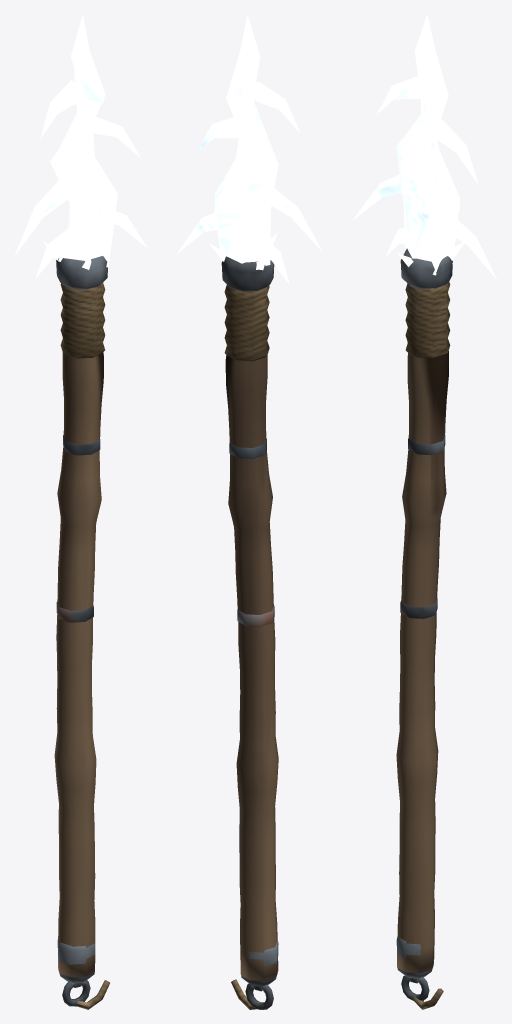
The model's file is Harpoon.fbx.
3 views of the same model, side by side, from view 1: azimuth 30°, elevation 25°; view 2: azimuth 150°, elevation 25°; view 3: azimuth 330°, elevation 25° (orthographic).
Parts seen in each view (by area): view 1: Harpoon; view 2: Harpoon; view 3: Harpoon.
Boxes of the visible parts, x1,y1,x2,y2 form: Harpoon: [15, 14, 146, 1009]; Harpoon: [177, 14, 322, 1009]; Harpoon: [352, 14, 497, 1009].
Size of the model in its own units: 0.1772 by 1.2 by 0.0704.
